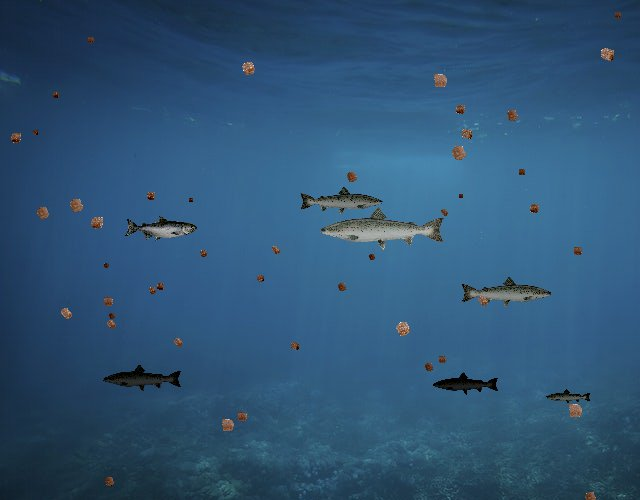Fish: (318, 205, 447, 251), (460, 275, 554, 309), (298, 185, 384, 216), (103, 364, 184, 393), (124, 215, 197, 241), (432, 372, 500, 396), (546, 389, 593, 406)
Pellet: (234, 55, 262, 83), (54, 301, 79, 326), (578, 486, 602, 500), (29, 127, 41, 139)
